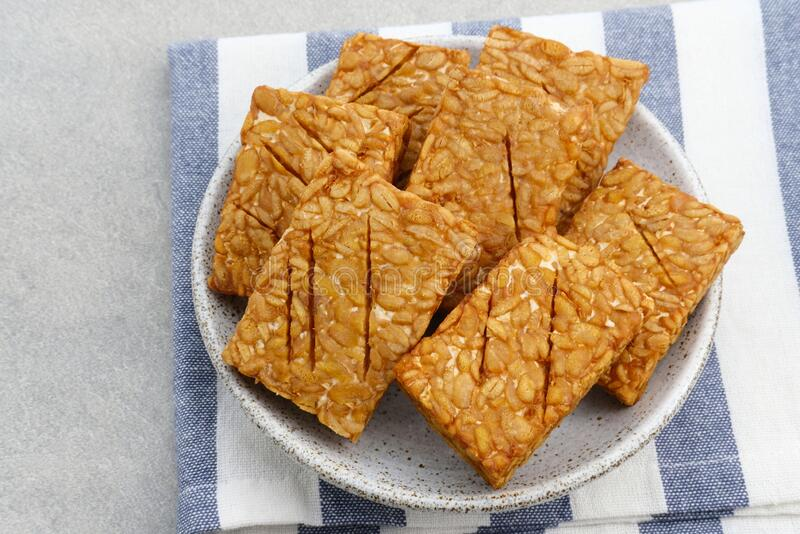Tempe: (408, 273, 633, 480), (274, 201, 474, 415), (573, 170, 752, 376), (381, 77, 546, 241), (208, 88, 364, 243)
